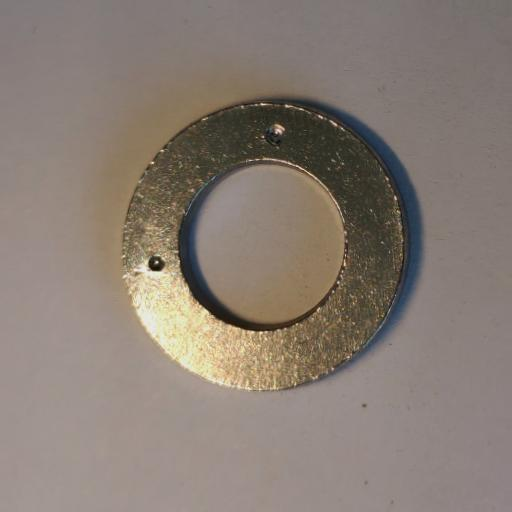circular_cavity: (264, 123, 286, 145), (147, 256, 164, 271)
